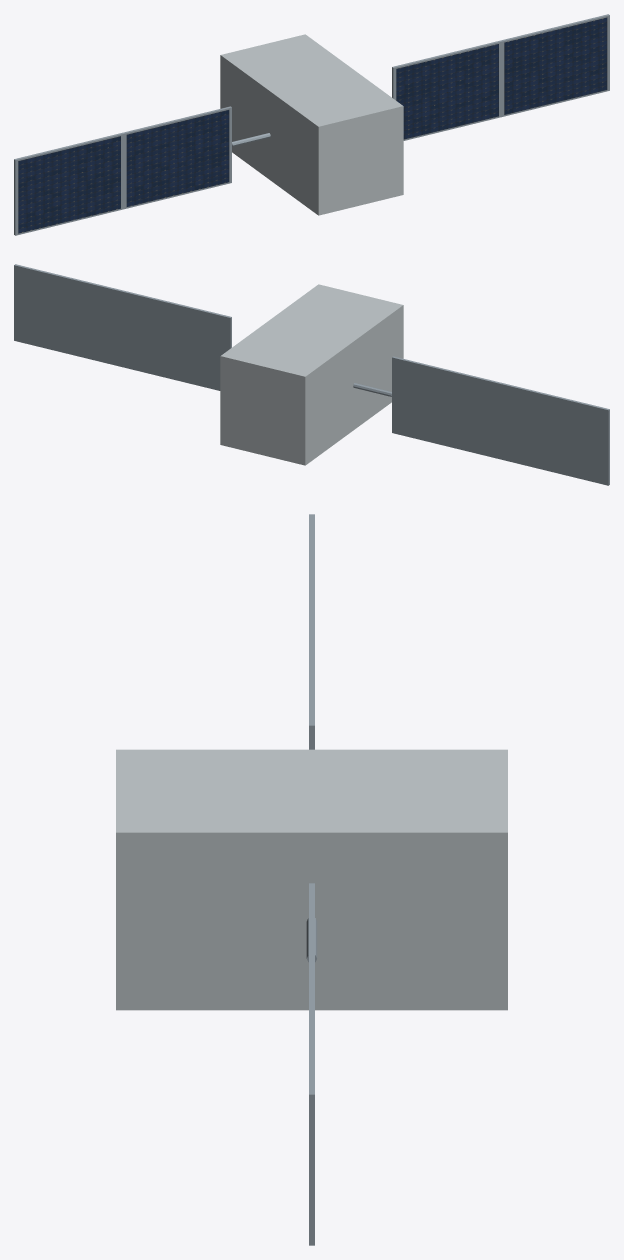
File: ref-chutian-66409.glb
3 views of the same model, one above another, from view 1: azimuth 30°, elevation 25°; view 2: azimuth 150°, elevation 25°; view 3: azimuth 270°, elevation 25° (orthographic). The views are drawn at different scales.
Visible parts, largest first — view 1: Photovoltaic laminates (×4), Spacecraft body, Array frame (×4); view 2: Array frame (×4), Spacecraft body; view 3: Spacecraft body, Array frame.
Part boxes in pixels (box(x1,y1,x2,y2)): Photovoltaic laminates (×4): box(18, 17, 607, 233); Spacecraft body: box(220, 34, 403, 215); Array frame (×4): box(14, 14, 609, 235); Array frame (×4): box(14, 264, 609, 485); Spacecraft body: box(220, 284, 403, 465); Spacecraft body: box(116, 749, 507, 1010); Array frame: box(309, 989, 314, 1245).
Bounding box in the file's own units: 3.5 × 0.5 × 1.
Materials: 3 (1 with a texture image).
